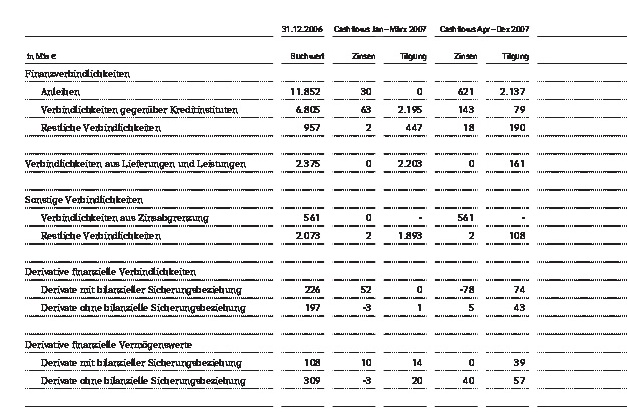table: (0, 0, 627, 418)
